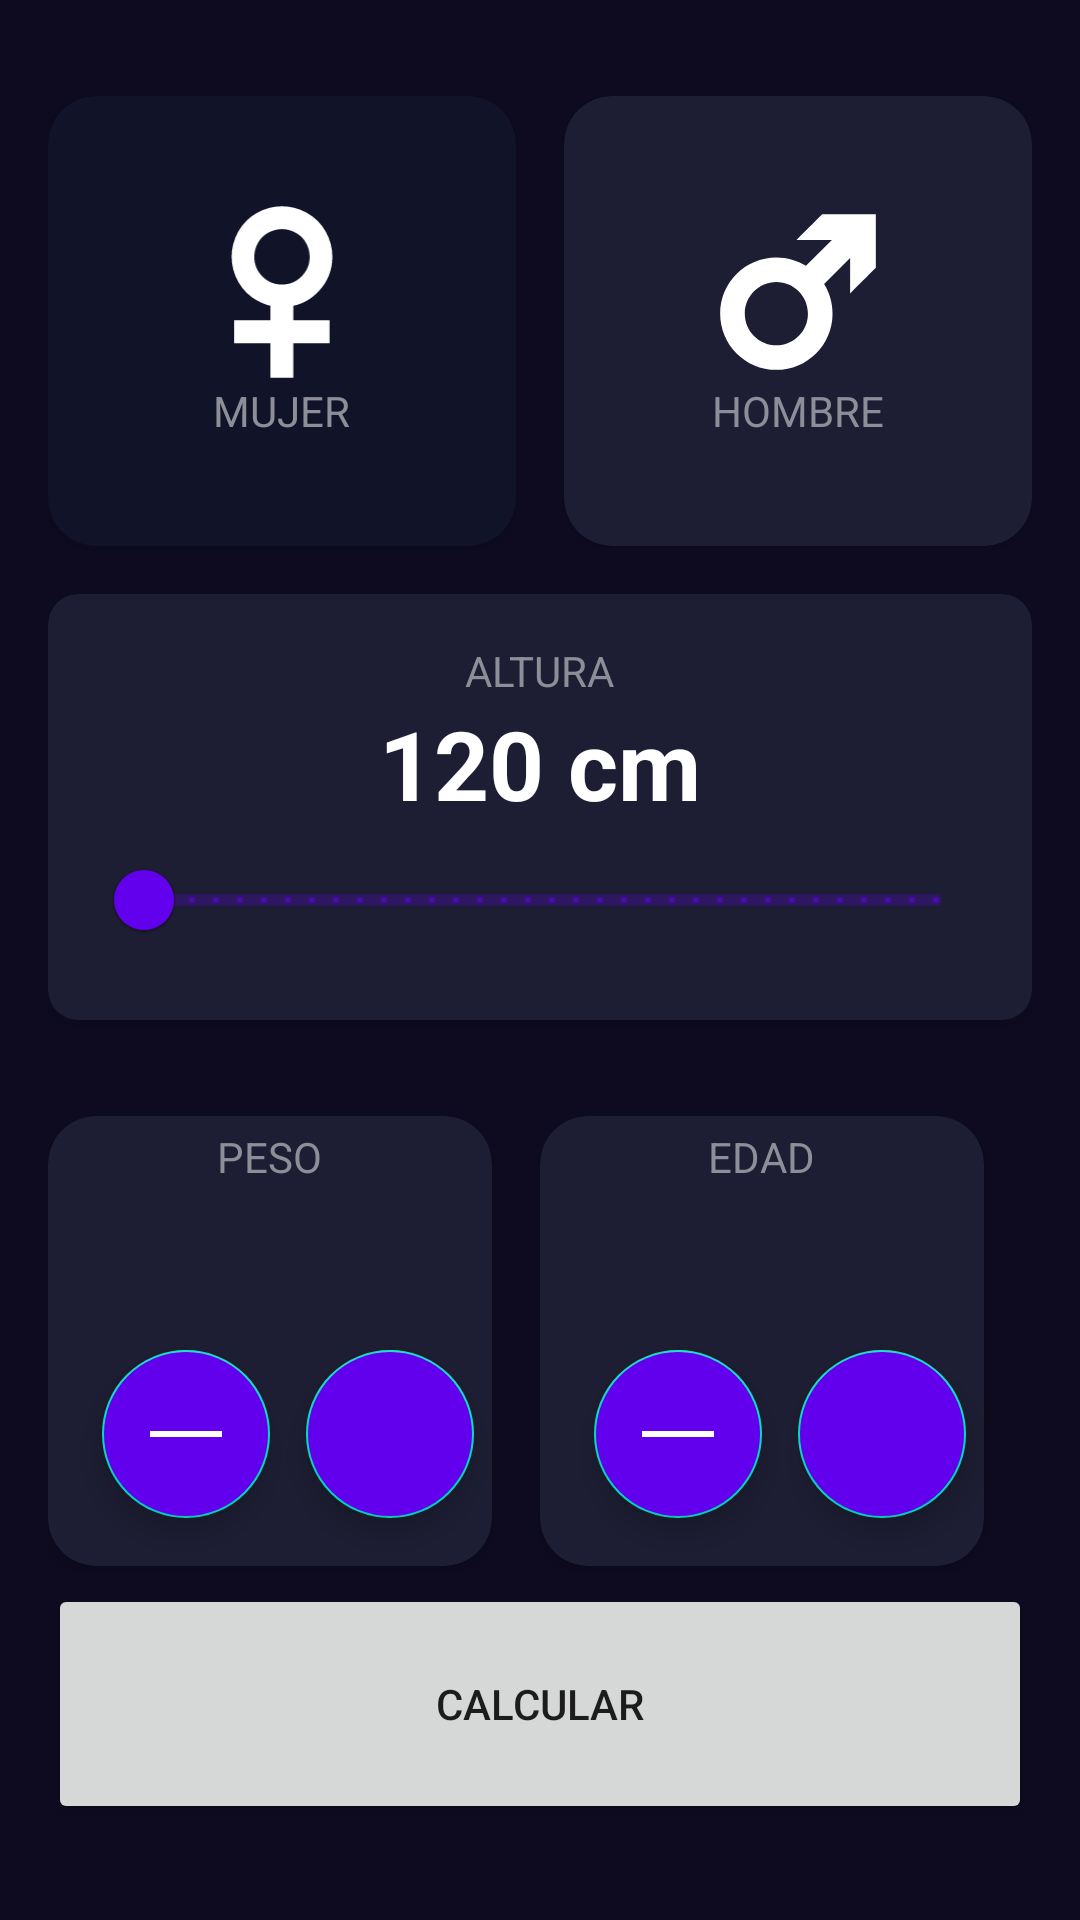

Icon click points for this 1080x1920 phone screenshot, format [x,y]:
subtract: [186,1434], [678,1434]
